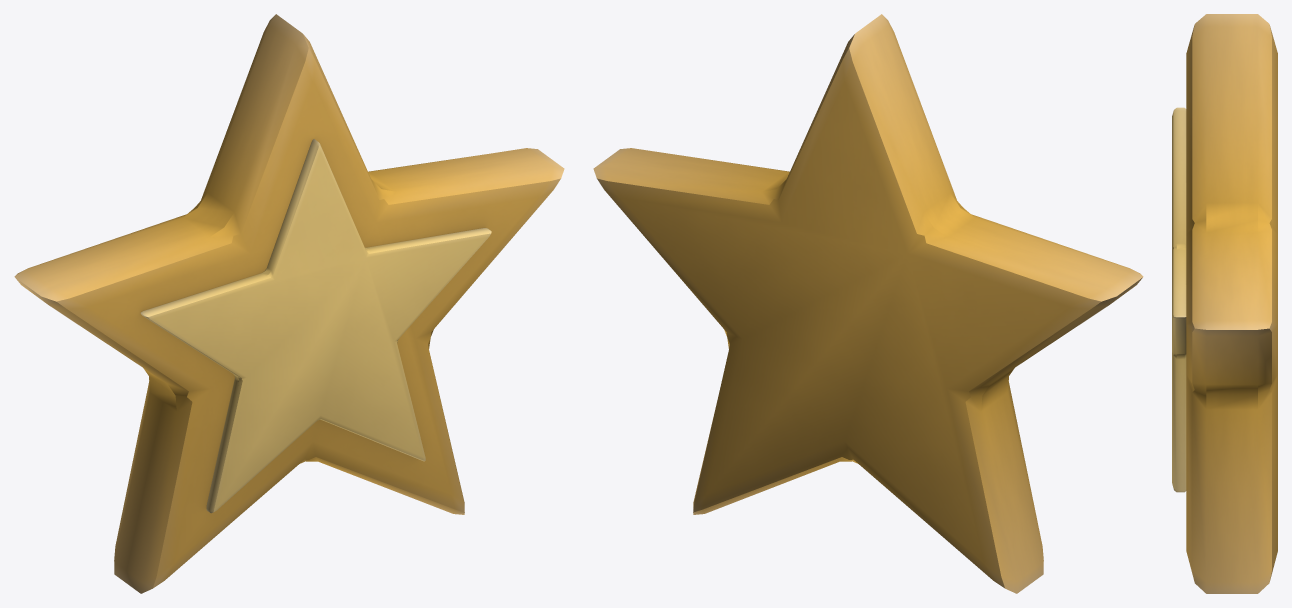
File: StarBadge.fbx
The picture shows the model from 3 angles, left to right: view 1: azimuth 30°, elevation 25°; view 2: azimuth 150°, elevation 25°; view 3: azimuth 270°, elevation 25°; orthographic projection. The views are drawn at different scales.
Parts seen in each view (by area): view 1: StarBadge; view 2: StarBadge; view 3: StarBadge.
Boxes of the visible parts, bbox=[...] form: StarBadge: bbox=[14, 14, 564, 593]; StarBadge: bbox=[593, 14, 1143, 593]; StarBadge: bbox=[1172, 14, 1277, 593].
Bounding box in the file's own units: 102 × 97.03 × 18.5.
